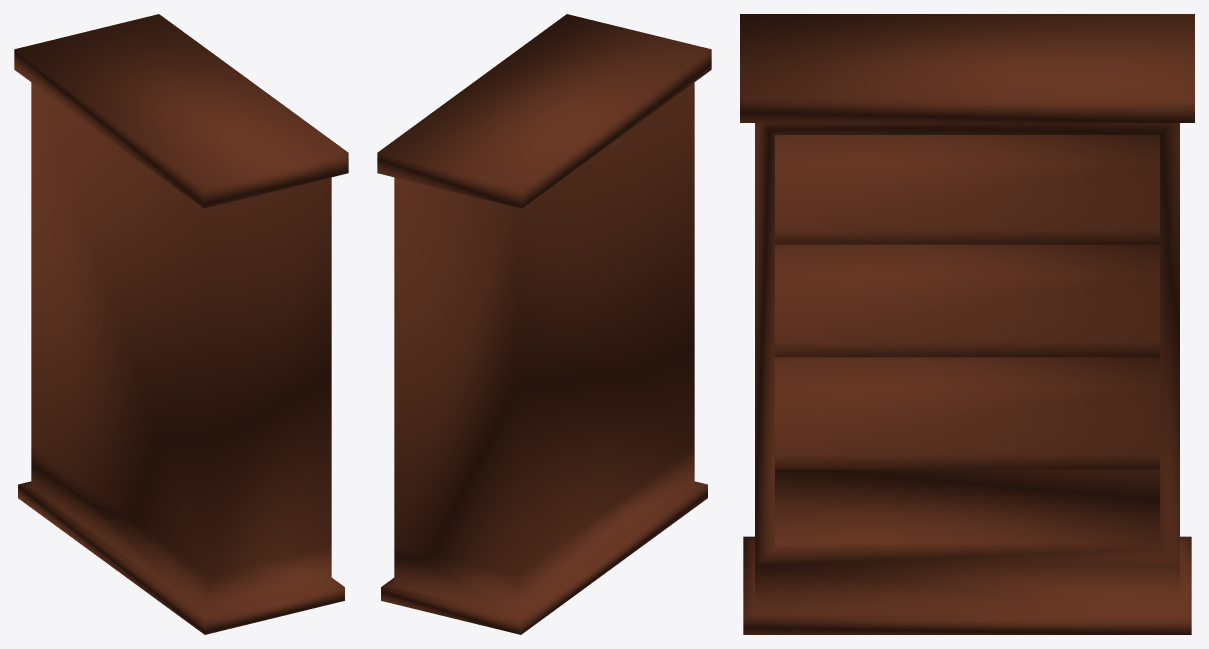
Rendered from LargeShelf.fbx.
The picture shows the model from 3 angles, left to right: view 1: azimuth 30°, elevation 25°; view 2: azimuth 150°, elevation 25°; view 3: azimuth 270°, elevation 25°; orthographic projection. The views are drawn at different scales.
Parts seen in each view (by area): view 1: Cube.001; view 2: Cube.001; view 3: Cube.001.
Boxes of the visible parts, bbox=[...] form: Cube.001: bbox=[14, 14, 348, 634]; Cube.001: bbox=[377, 14, 711, 634]; Cube.001: bbox=[740, 14, 1194, 634].
Bounding box in the file's own units: 134 × 396 × 303.
